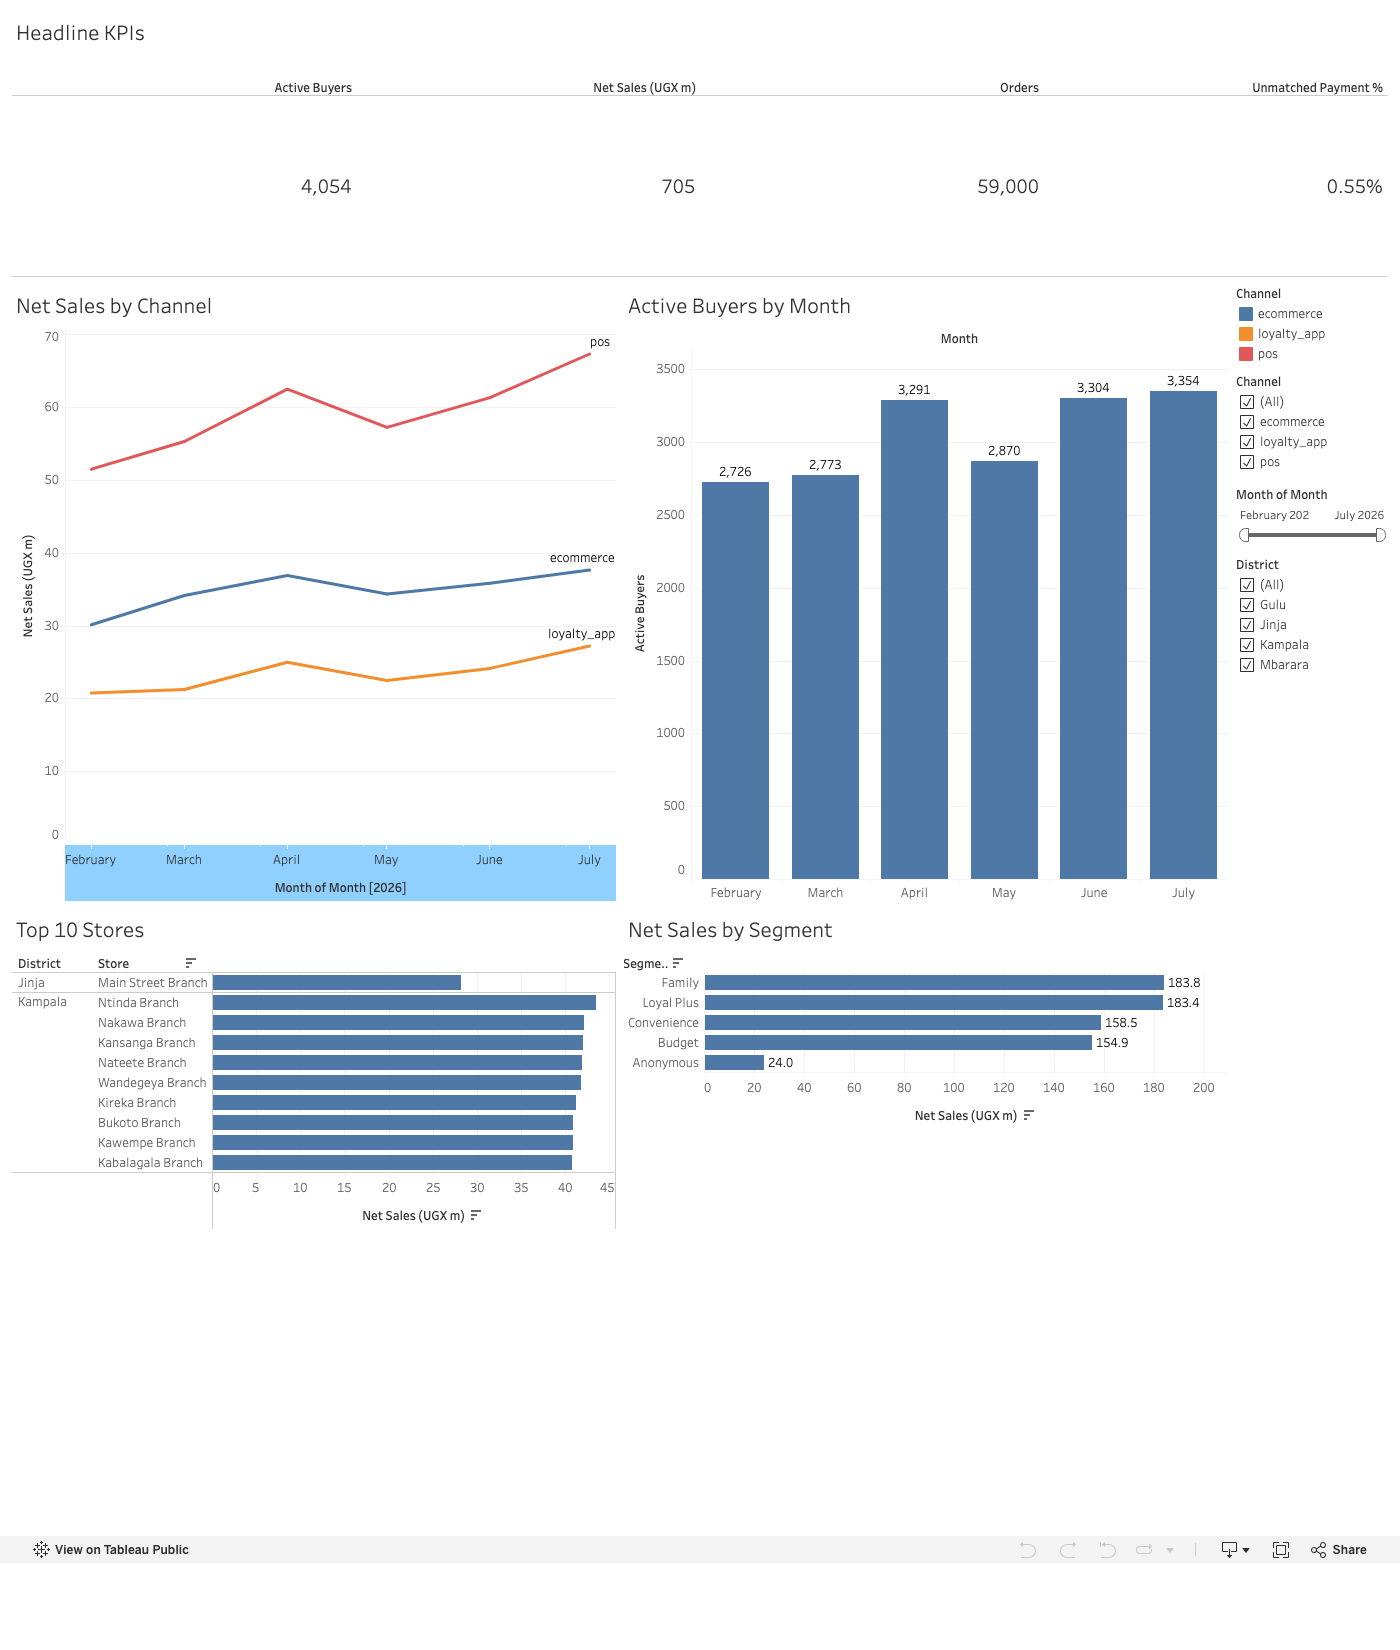

The page's visual inventory and layout, read from the dashboard file:
{"tool":"tableau","page":{"name":"Dashboard 1","canvas":[1000,1000],"units":"permille","ordinal":0},"visuals":[{"type":"worksheet","title":"Headline KPIs","mark":"Automatic","box":[8.6,10.9,982.7,175.9]},{"type":"worksheet","title":"Net Sales by Channel","mark":"Automatic","rows":["Calculation_0014551620378624"],"cols":["Month"],"box":[8.6,186.8,405.1,401.1]},{"type":"worksheet","title":"Active Buyers by Month","mark":"Bar","rows":["Calculation_0014551620456449"],"cols":["Month"],"box":[413.7,186.8,405.1,401.1]},{"type":"legend","title":"Net Sales by Channel","param":"[federated.05ya2ff1d6l98y1fhd3jb1nggh45].[none:Channel:nk]","box":[818.8,186.8,172.6,118.9]},{"type":"filter","title":"Net Sales by Channel","param":"[federated.05ya2ff1d6l98y1fhd3jb1nggh45].[none:Channel:nk]","box":[818.8,305.7,172.6,154.4]},{"type":"filter","title":"Net Sales by Channel","param":"[federated.05ya2ff1d6l98y1fhd3jb1nggh45].[tmn:Month:qk]","box":[818.8,460.1,172.6,95.6]},{"type":"filter","title":"Top 10 Stores","param":"[federated.05ya2ff1d6l98y1fhd3jb1nggh45].[none:District:nk]","box":[818.8,555.7,172.6,181.7]},{"type":"worksheet","title":"Top 10 Stores","mark":"Automatic","rows":["District","Store"],"cols":["Calculation_0014551620378624"],"box":[8.6,588,405.1,401.1]},{"type":"worksheet","title":"Net Sales by Segment","mark":"Automatic","rows":["Segment"],"cols":["Calculation_0014551620378624"],"box":[413.7,588,405.1,401.1]}]}

Visuals, with their boxes on the dashboard's canvas, which has no fixed pixel size, in thousandths of its width and height (x1, y1, x2, y2). These are canvas units, not pixel positions in the 1400x1650 screenshot, which may show the page scaled, cropped or inside an application window:
"Headline KPIs" worksheet: x1=9 y1=11 x2=991 y2=187
"Net Sales by Channel" worksheet: x1=9 y1=187 x2=414 y2=588
"Active Buyers by Month" worksheet (Bar marks): x1=414 y1=187 x2=819 y2=588
"Net Sales by Channel" legend: x1=819 y1=187 x2=991 y2=306
"Net Sales by Channel" filter: x1=819 y1=306 x2=991 y2=460
"Net Sales by Channel" filter: x1=819 y1=460 x2=991 y2=556
"Top 10 Stores" filter: x1=819 y1=556 x2=991 y2=737
"Top 10 Stores" worksheet: x1=9 y1=588 x2=414 y2=989
"Net Sales by Segment" worksheet: x1=414 y1=588 x2=819 y2=989
